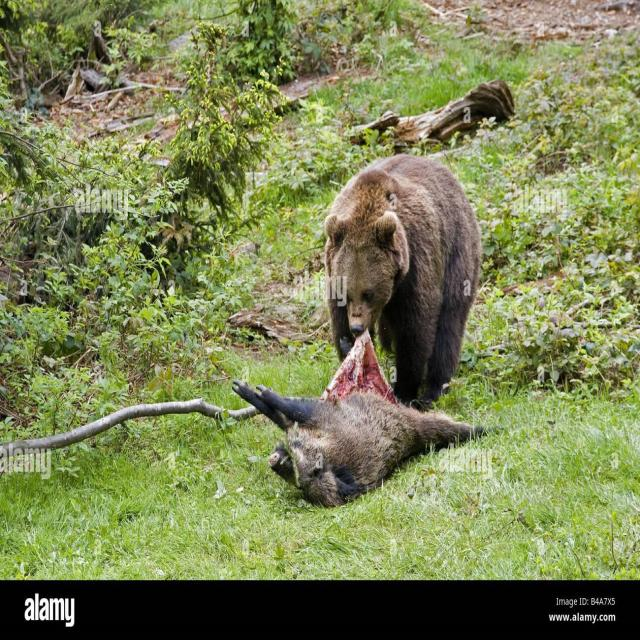Bear: (322, 156, 483, 413)
